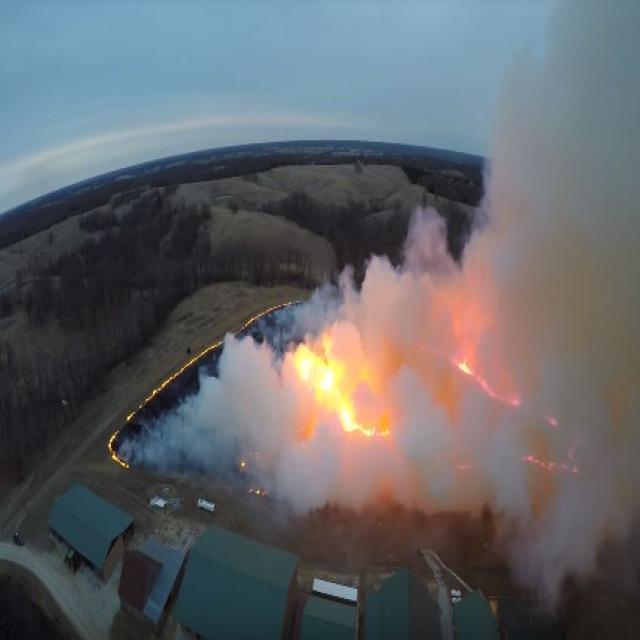Fire: (292, 328, 390, 442), (526, 388, 581, 486), (448, 348, 522, 418), (246, 485, 268, 501)
Smoke: (283, 203, 462, 330), (119, 330, 282, 464), (392, 354, 460, 508), (510, 518, 562, 622), (284, 430, 344, 518), (490, 405, 534, 522)
